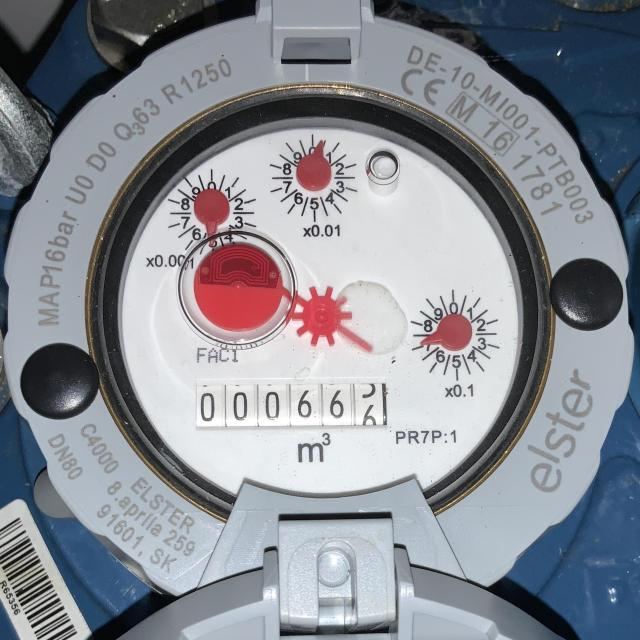gaz_meter: (118, 119, 523, 493)
indication: (194, 378, 386, 428)
